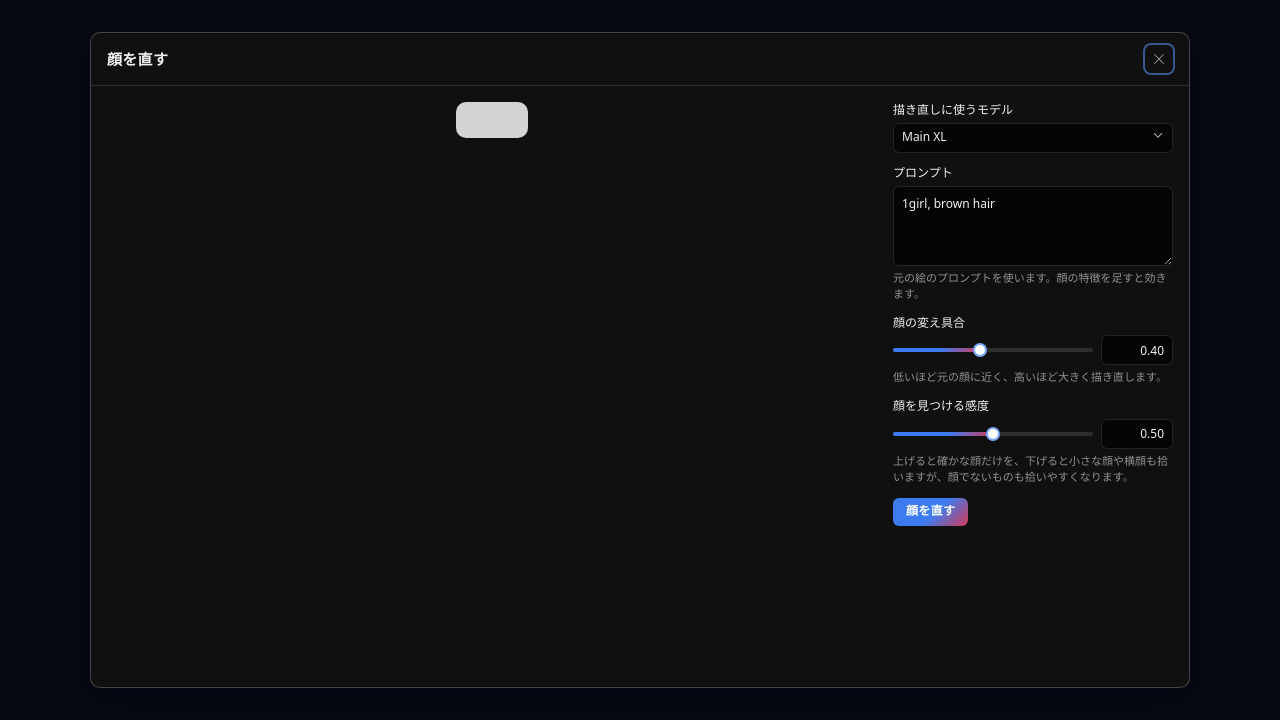
fix the face › starts with the picture's own prompt and model, and redraws its faces with them on the same board
Expected: the text box with test id "facefix-prompt" holds "1girl, brown hair", 893,186 -> 1173,266
Click the button with test id "facefix-run" at (931, 512), box 893,498 -> 968,526
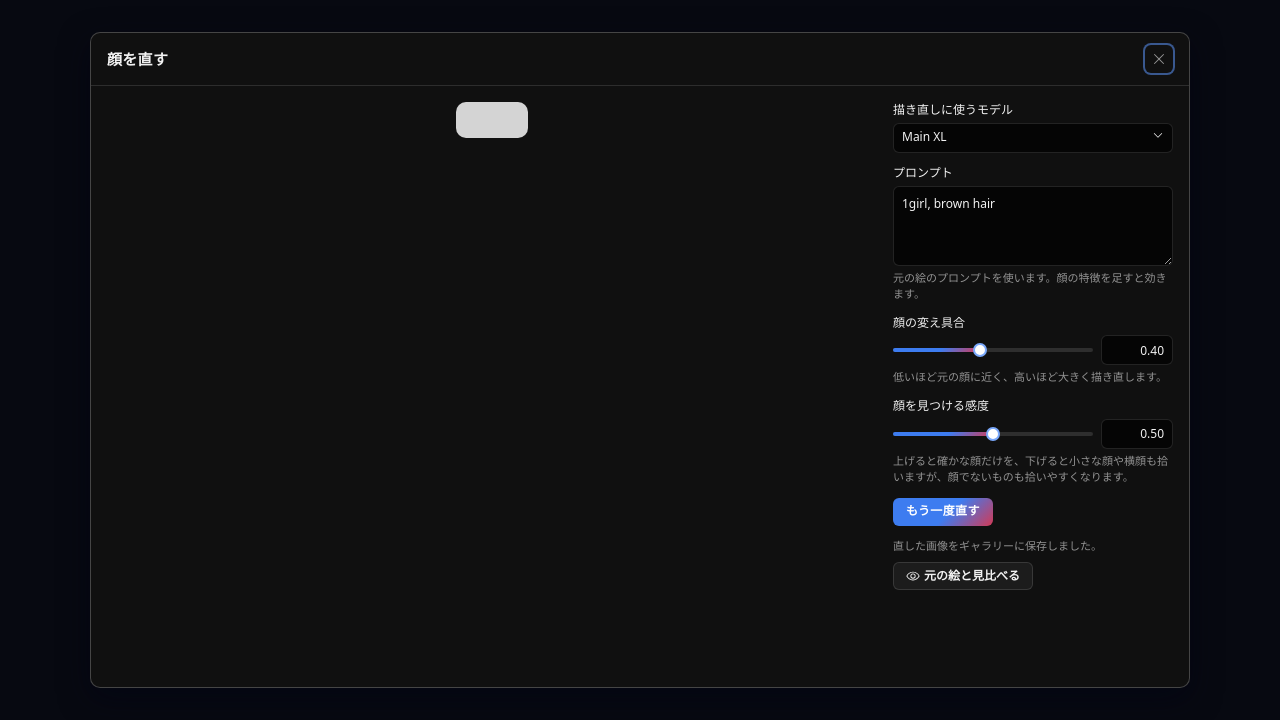
Expected: the element with test id "facefix-done" is shown, 893,538 -> 1102,590
